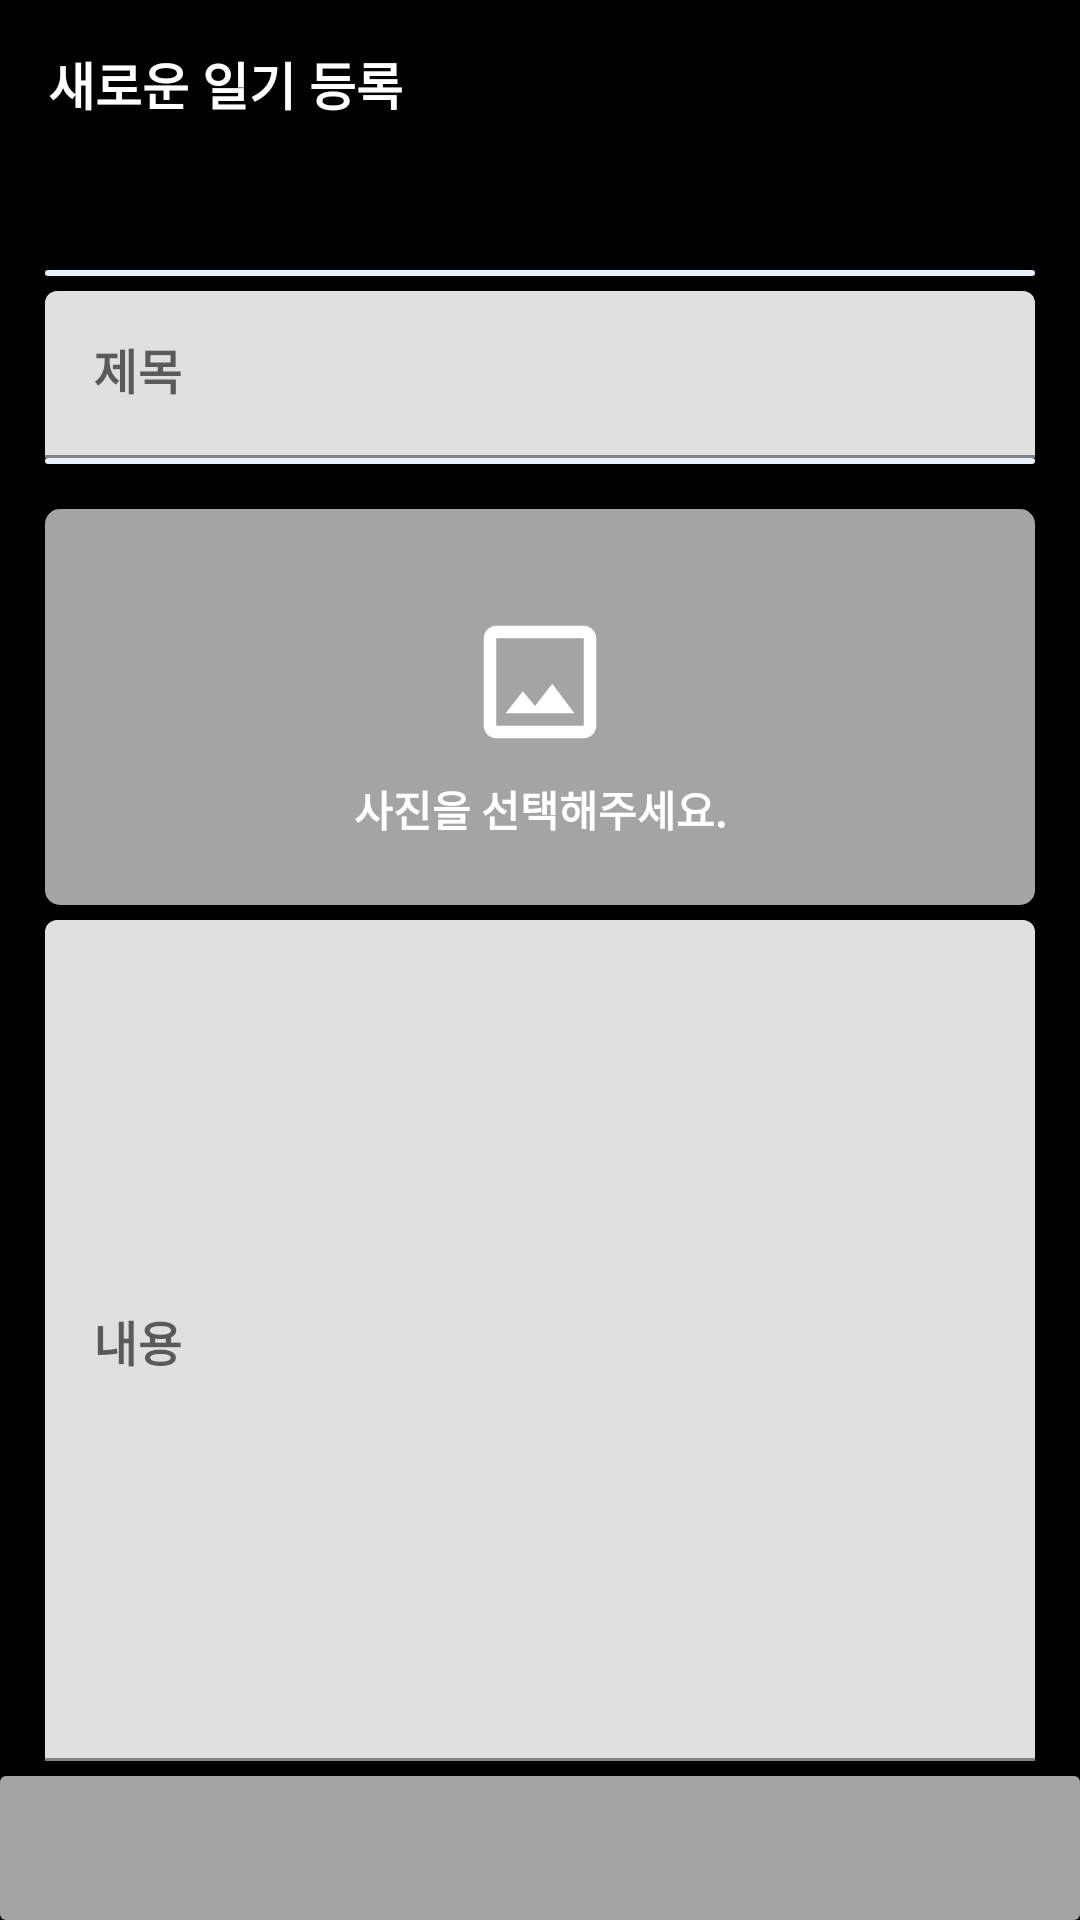

Where to tap for icons on this 1080px x 1920px app screen, as point (x, y):
gallery: point (540, 682)
